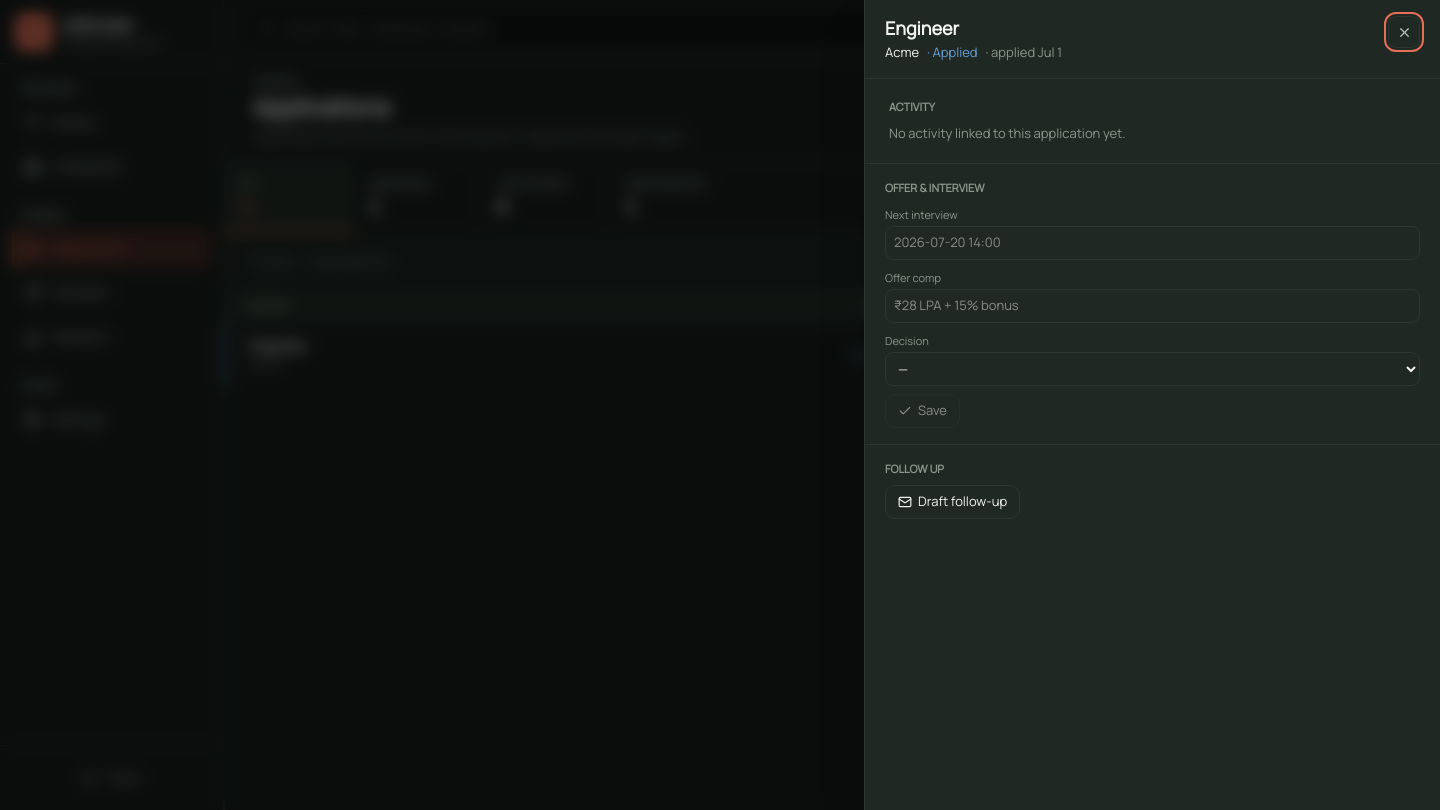
Test: ShellV2 › updates application state after saving offer details
The width and height of the screenshot is (1440, 810).
Type "INR 28 LPA" into the field labelled "Offer comp". click: (1152, 306)
box: [885, 289, 1420, 323]
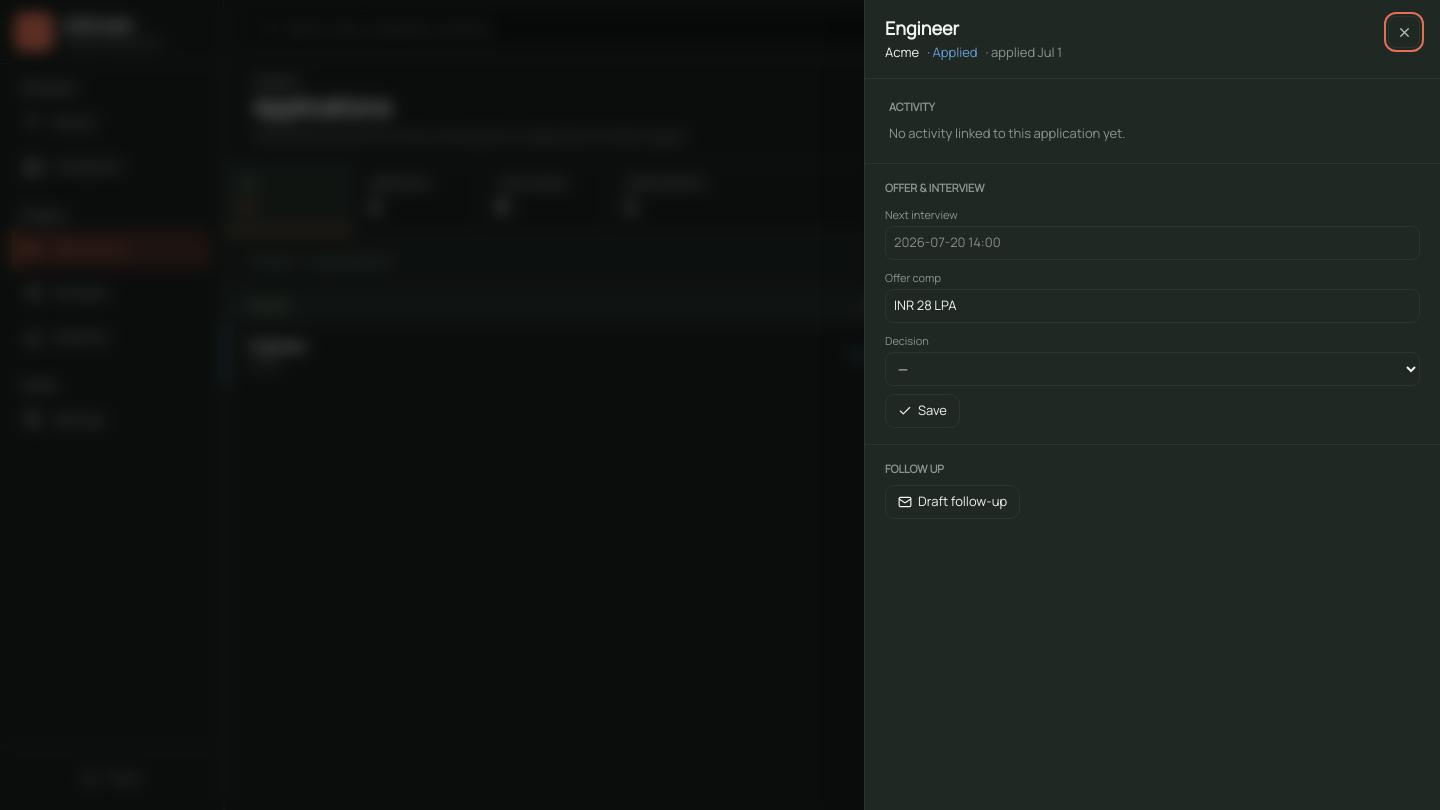
Click the button "Save". click: (922, 411)
box: [885, 394, 960, 428]
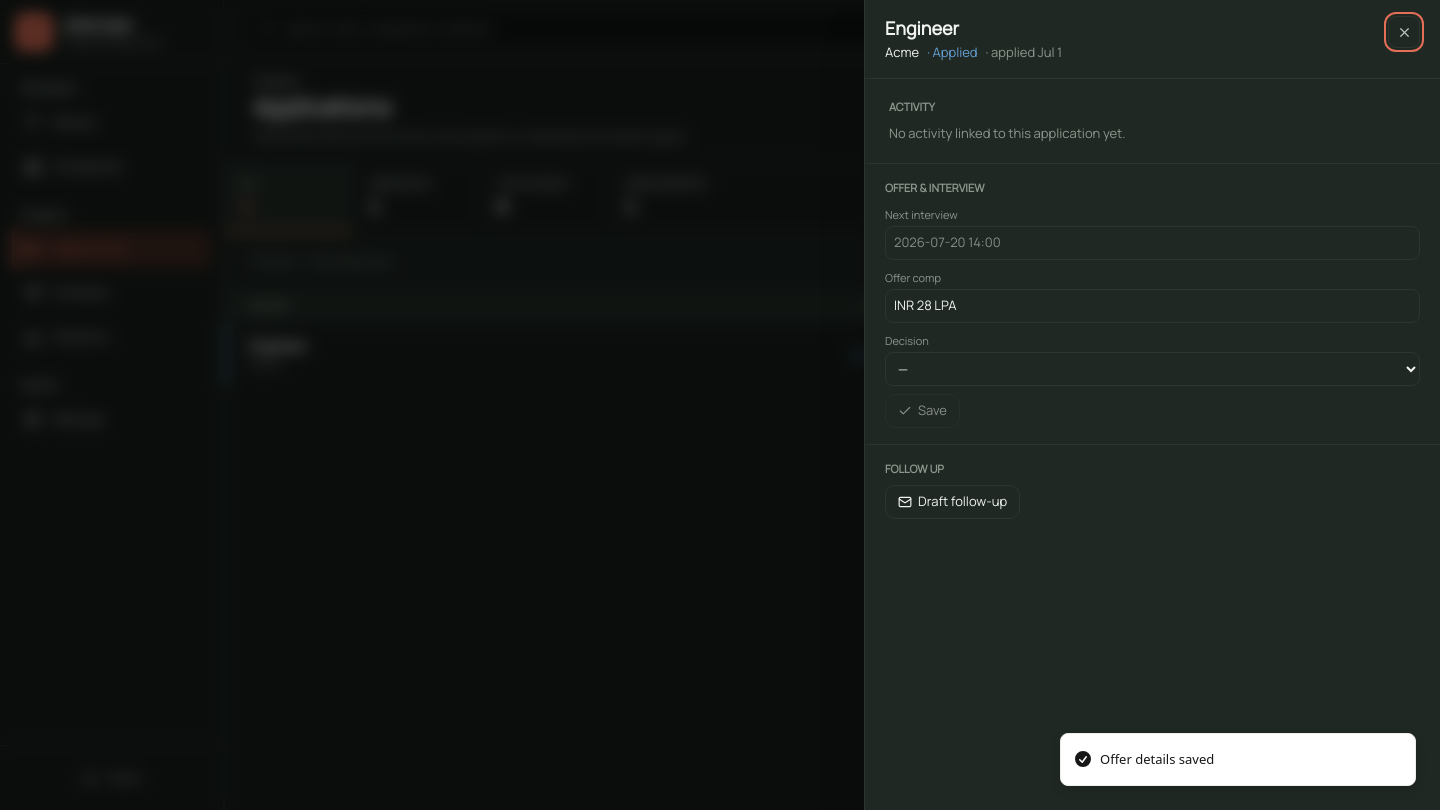
Now the button "Save" is disabled, box [885, 394, 960, 428]
